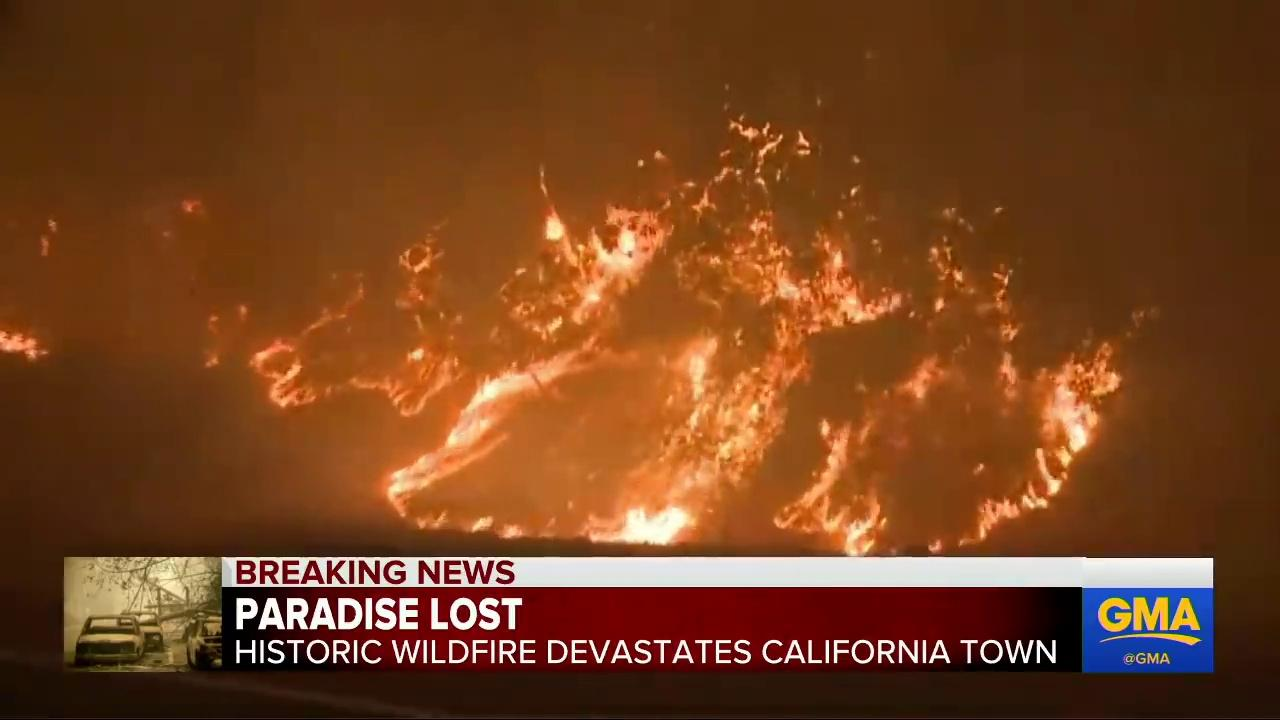Fire: (278, 198, 1120, 544), (634, 103, 875, 195), (3, 324, 57, 362)
